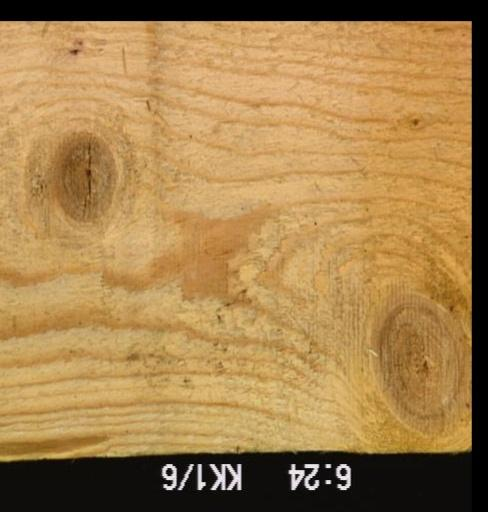small_knot: (406, 113, 422, 130)
sound_knot: (344, 281, 469, 453), (45, 124, 122, 230)
